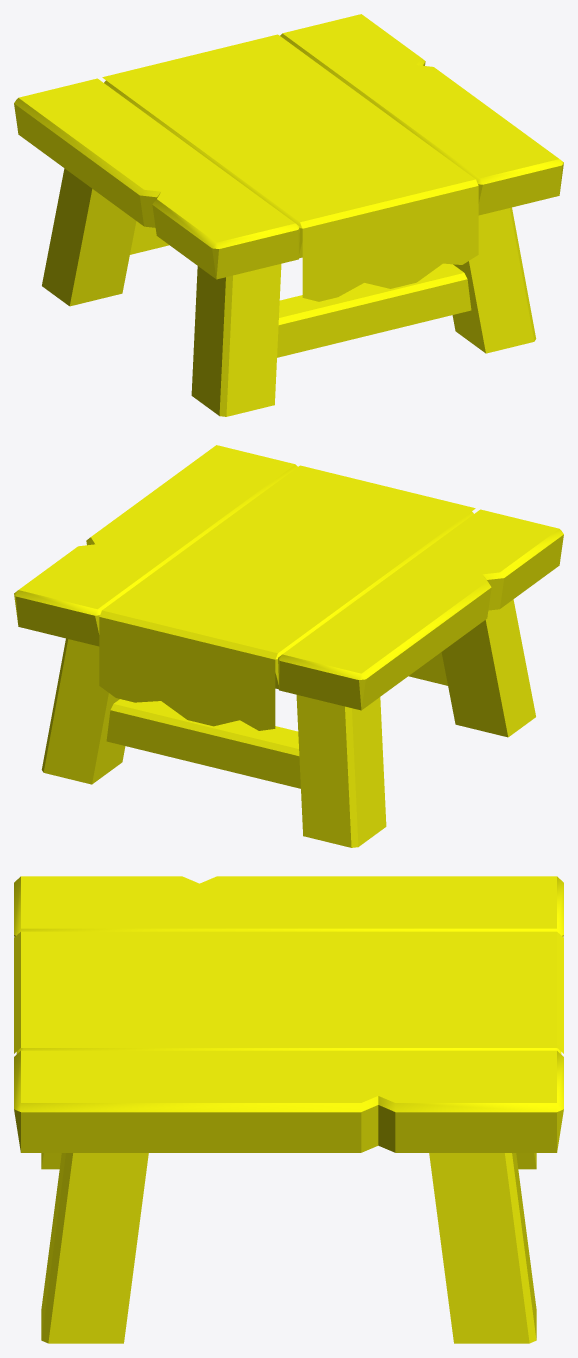
Rendered from kaykit-table-medium-tablecloth.glb.
The picture shows the model from 3 angles, top to bottom: view 1: azimuth 30°, elevation 25°; view 2: azimuth 150°, elevation 25°; view 3: azimuth 270°, elevation 25°; orthographic projection. The views are drawn at different scales.
Parts seen in each view (by area): view 1: table_medium_tablecloth; view 2: table_medium_tablecloth; view 3: table_medium_tablecloth.
Boxes of the visible parts, box(x1,y1,x2,y2) form: table_medium_tablecloth: box(14, 14, 563, 416); table_medium_tablecloth: box(14, 445, 563, 847); table_medium_tablecloth: box(14, 876, 563, 1343).
Size of the model in its own units: 2 by 0.9998 by 2.
